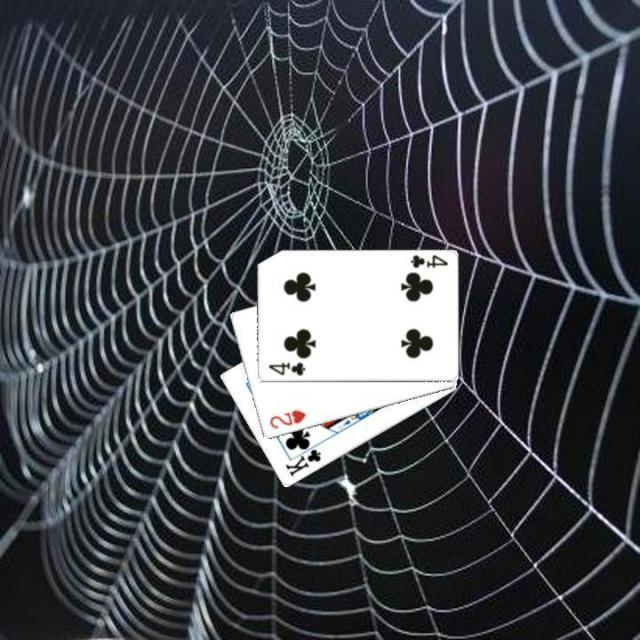2H: (266, 406, 308, 431)
4C: (406, 250, 449, 270), (264, 360, 307, 378)
KC: (281, 439, 323, 478)
